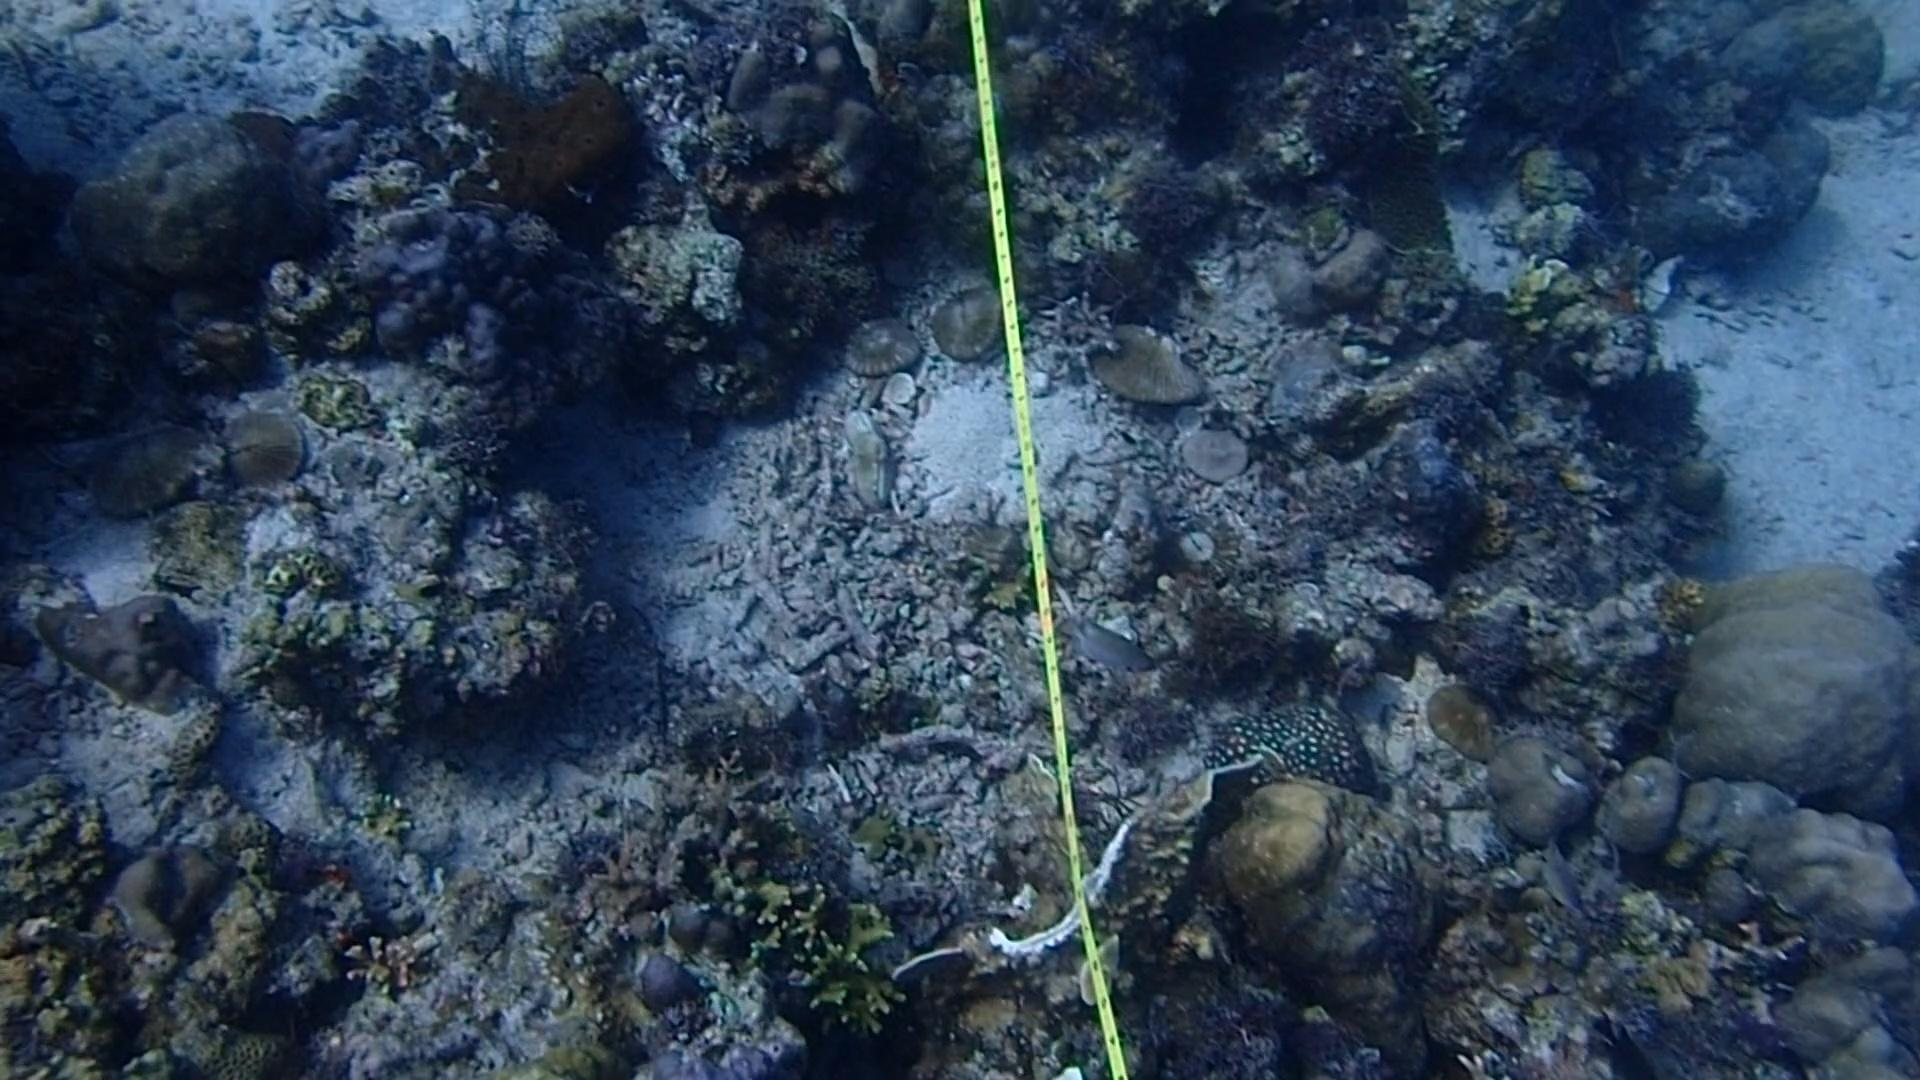Light Fish: (1038, 591, 1160, 692)
